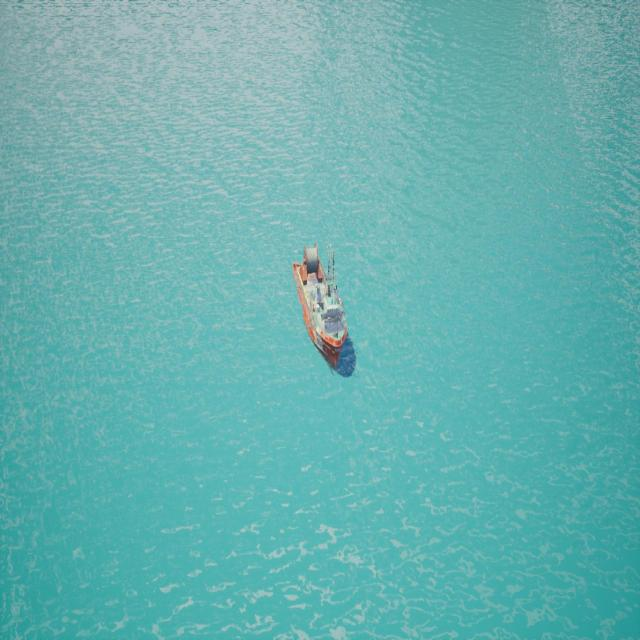tug boat: (285, 231, 363, 374)
